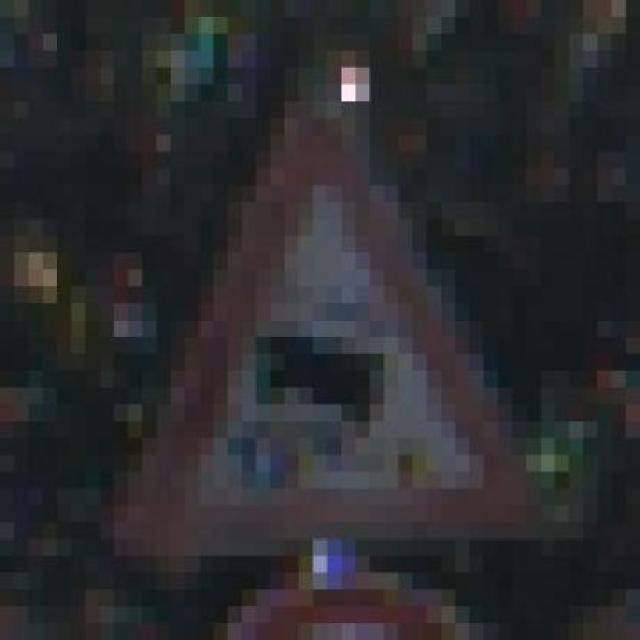Slippery Road Ahead: (99, 67, 541, 590)
